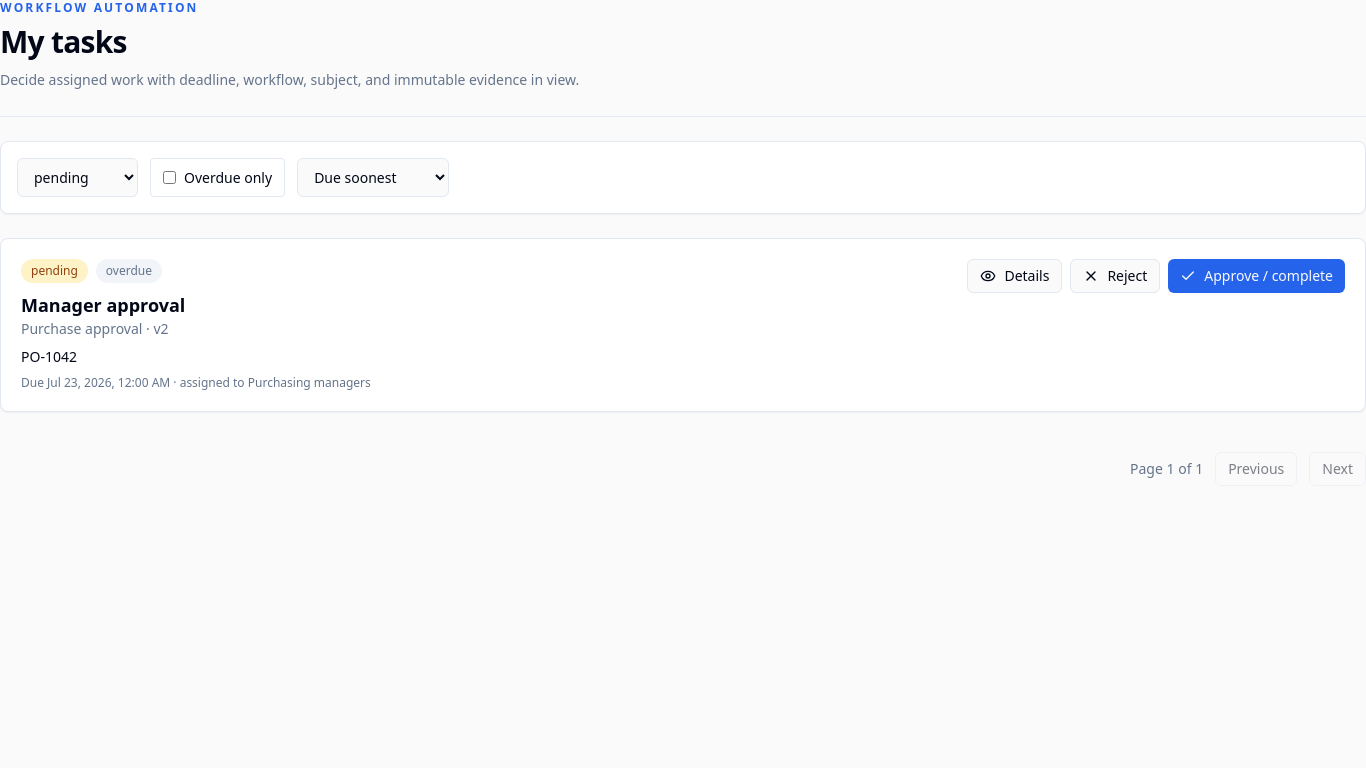
Test: workflow contextual pages › records task approvals with immutable success evidence
Step 1. Click the button "Approve / complete" → click(1257, 276), box [1168, 259, 1345, 293]
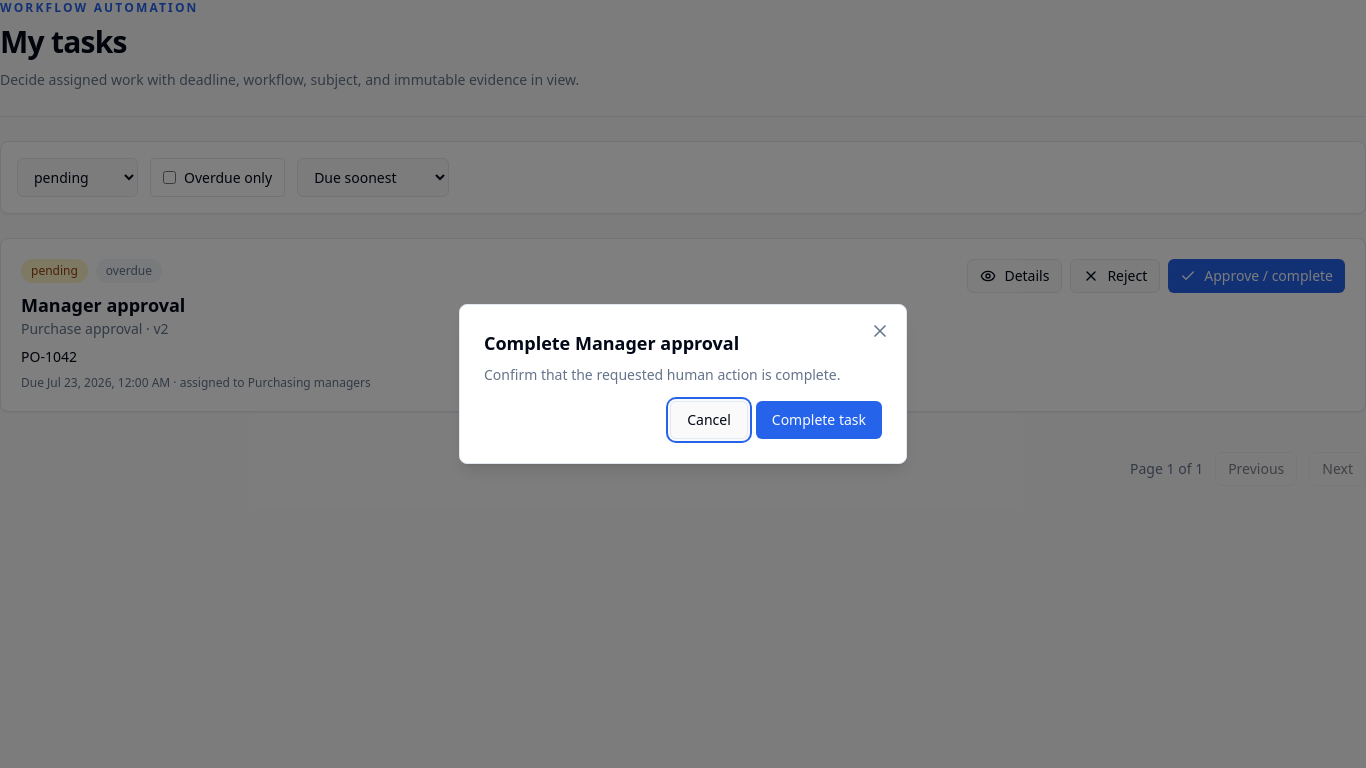
Step 2. Click the button "Complete task" → click(819, 420), box [756, 401, 882, 439]
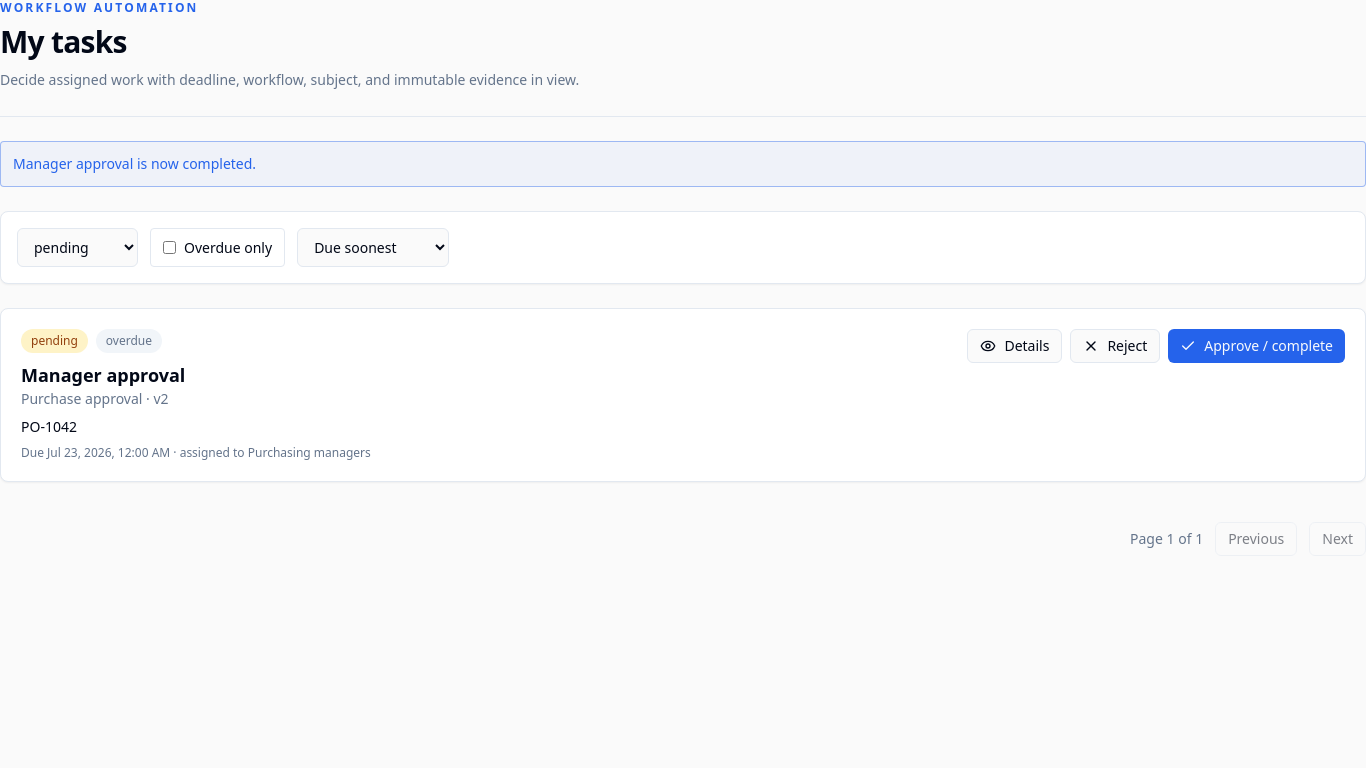
Expected: the message shows "completed", [13, 154, 256, 173]
